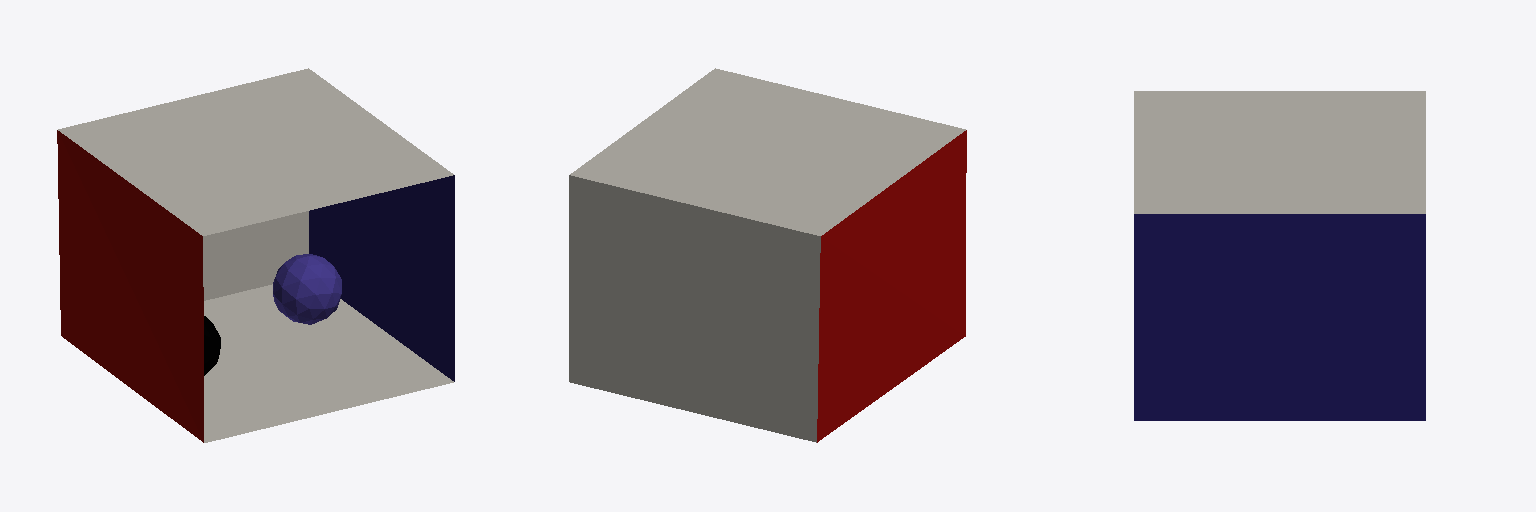
The model's file is CornellBox-Sphere-1368.obj.
3 views of the same model, side by side, from view 1: azimuth 30°, elevation 25°; view 2: azimuth 150°, elevation 25°; view 3: azimuth 270°, elevation 25° (orthographic).
Visible parts, largest first — view 1: ceiling, leftWall, floor, rightWall, backWall, leftSphere, rightSphere; view 2: backWall, ceiling, leftWall; view 3: rightWall, ceiling.
Part boxes in pixels (bbox=[...]): ceiling: bbox=[58, 68, 453, 235]; leftWall: bbox=[57, 130, 203, 442]; floor: bbox=[204, 284, 453, 442]; rightWall: bbox=[309, 175, 454, 381]; backWall: bbox=[203, 211, 308, 300]; leftSphere: bbox=[273, 254, 341, 324]; rightSphere: bbox=[204, 316, 220, 375]; backWall: bbox=[569, 175, 820, 442]; ceiling: bbox=[570, 68, 965, 235]; leftWall: bbox=[817, 130, 966, 442]; rightWall: bbox=[1134, 214, 1425, 420]; ceiling: bbox=[1134, 91, 1425, 213].
Bounding box in the file's own units: 2.02 × 1.59 × 2.03.